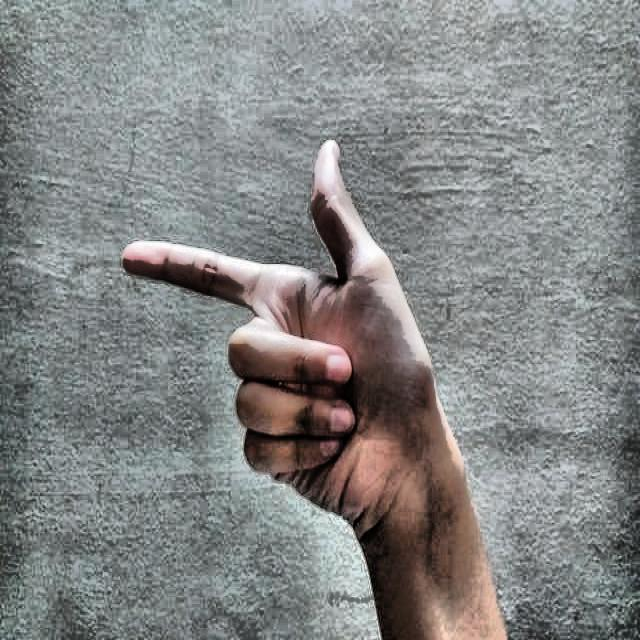Tho: (99, 106, 508, 540)
